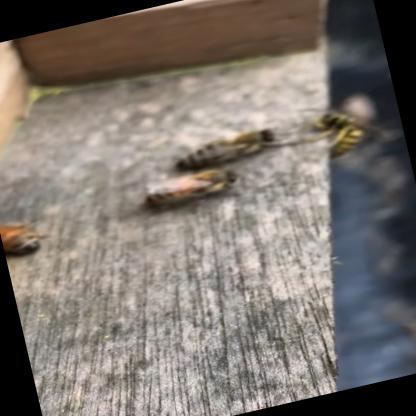bee: (119, 102, 294, 220), (0, 153, 67, 300)
hornet: (299, 86, 400, 184)
